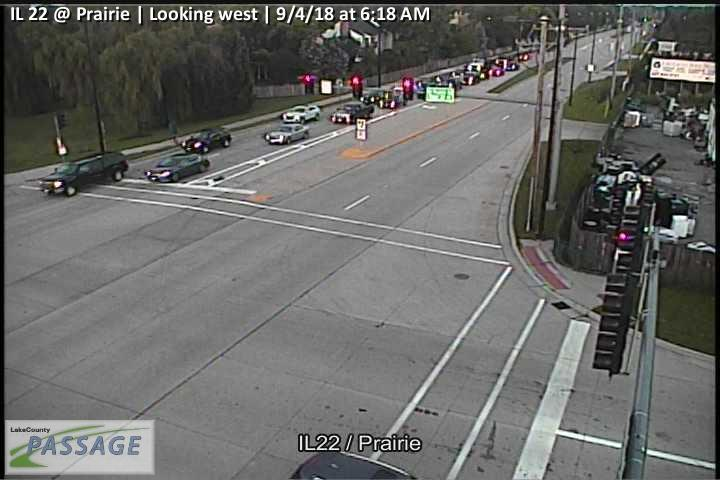SUV: (38, 150, 130, 196), (181, 127, 232, 153), (281, 103, 322, 123)
Sedan: (144, 153, 211, 182), (265, 123, 310, 144)
Truck: (328, 100, 375, 124)
